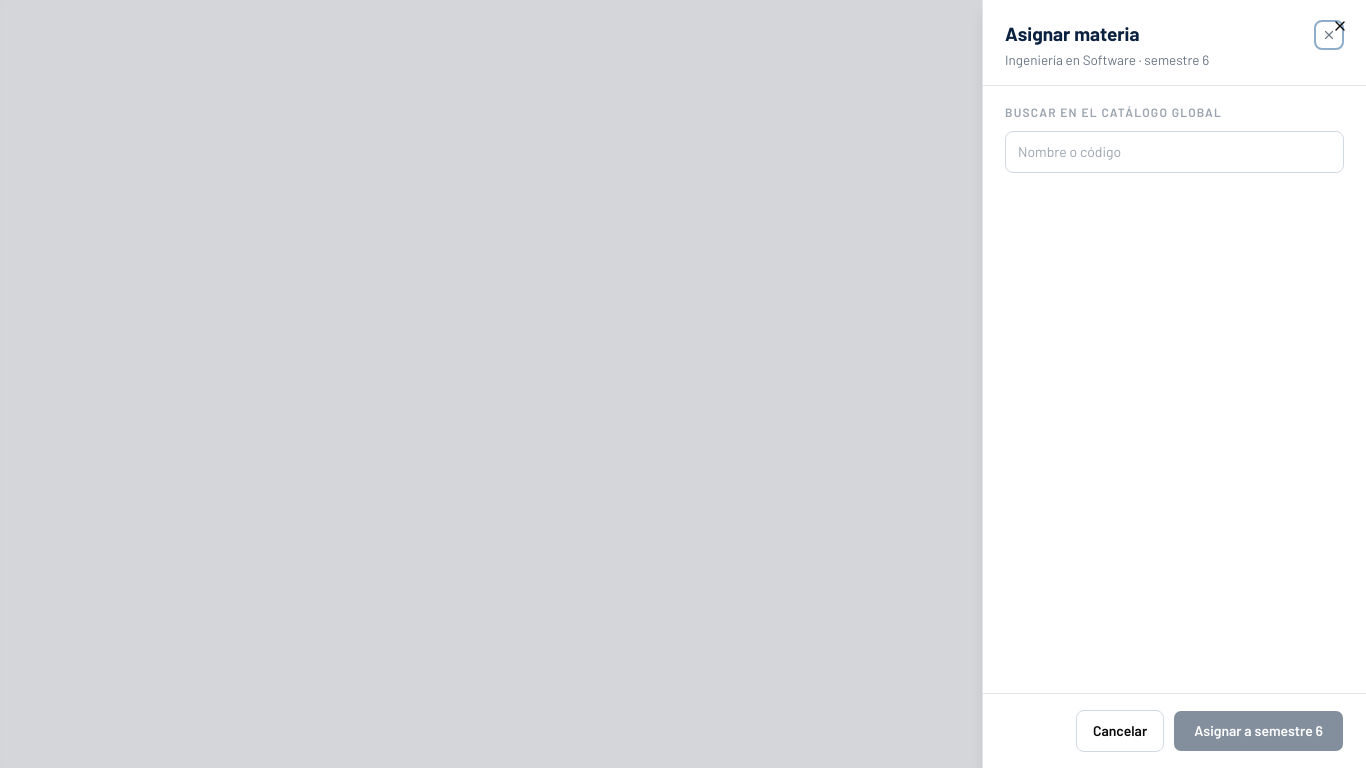
Test: AssignCoursePanel › shows a plain 'Ya en semestre N' row for a course already in this program
The width and height of the screenshot is (1366, 768).
Type "base de datos 1" into the field with placeholder "Nombre o código" at coordinates (1174, 152), box x1=1005 y1=131 x2=1344 y2=173
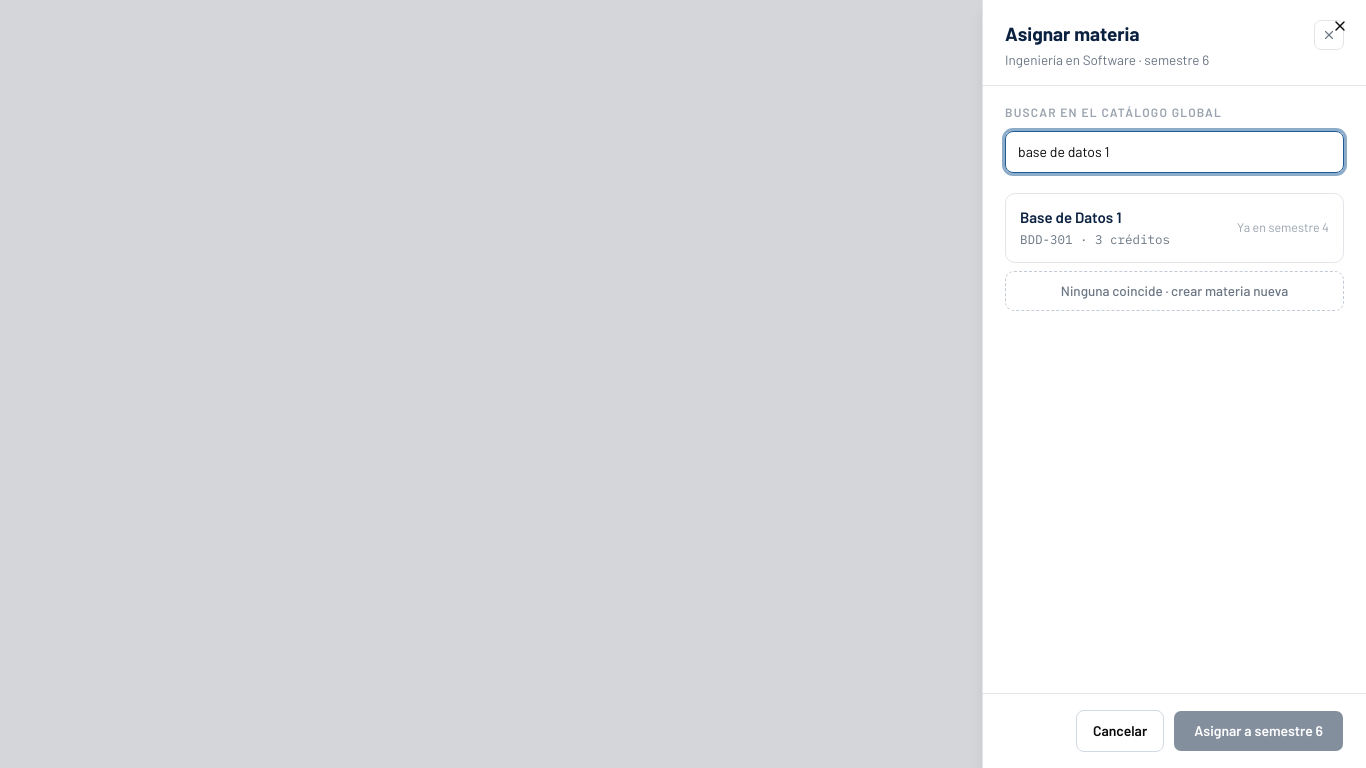
Now the text "Ya en semestre 4" is shown, box x1=1237 y1=219 x2=1329 y2=237
